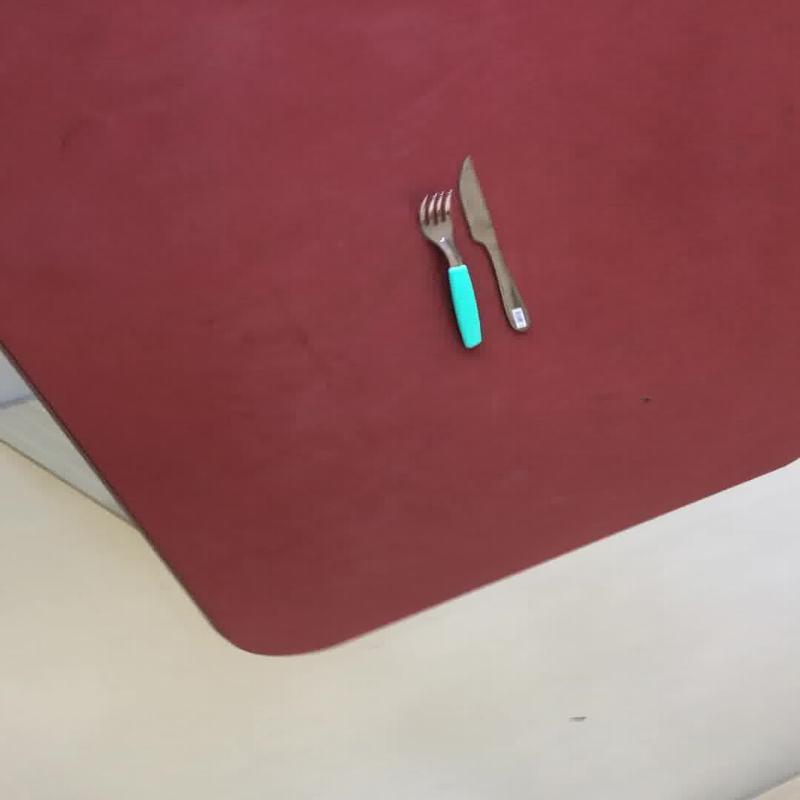fork: (415, 188, 481, 349)
knife: (455, 153, 530, 332)
